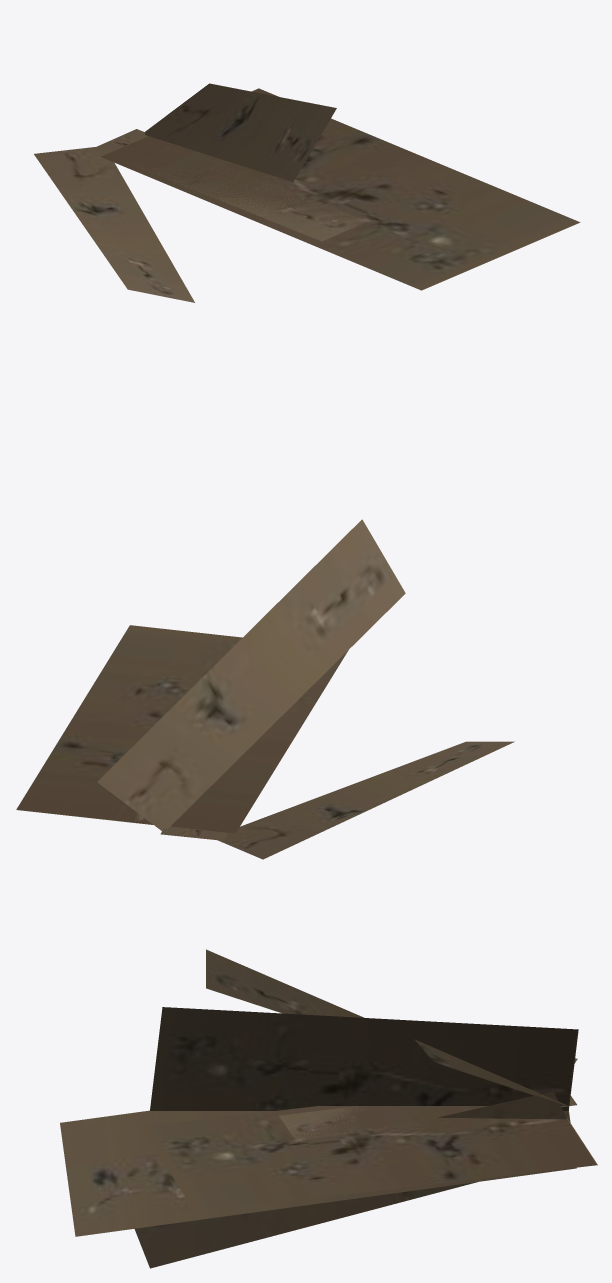
File: caen_weeds_01.glb
3 views of the same model, one above another, from view 1: azimuth 30°, elevation 25°; view 2: azimuth 150°, elevation 25°; view 3: azimuth 270°, elevation 25° (orthographic). The views are drawn at different scales.
Bounding box in the file's own units: 15.95 × 12.92 × 20.83.
1 material, 1 textured.
